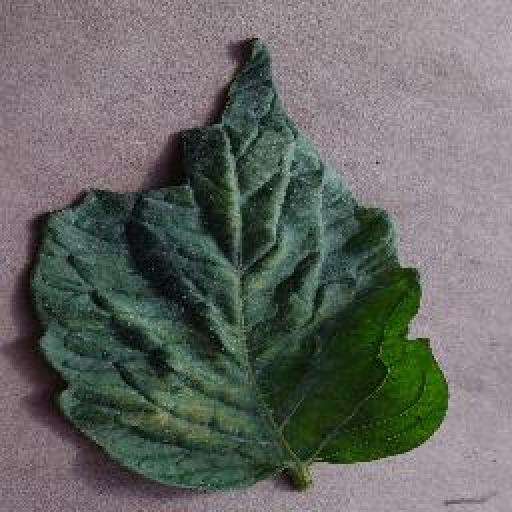Spider Mites: (38, 39, 450, 488)
